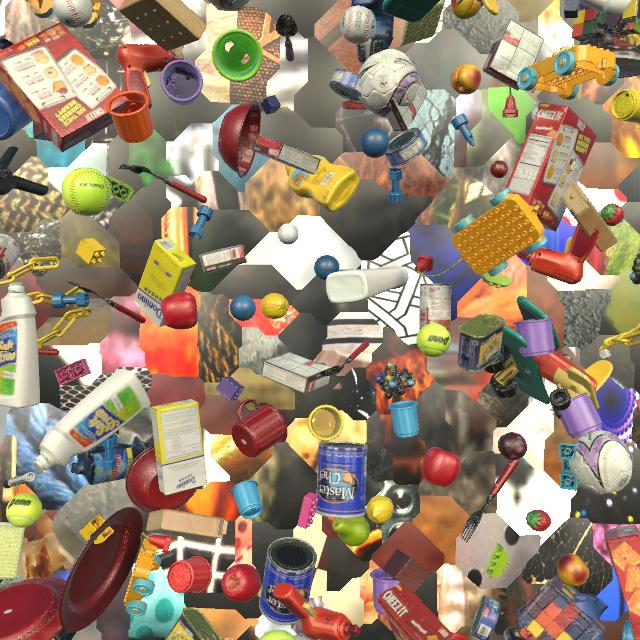ycb_002_master_chef_can: (259, 537, 317, 625), (316, 441, 368, 519)
ycb_003_cracker_box: (0, 22, 129, 152), (505, 103, 597, 231), (377, 583, 456, 640), (604, 525, 640, 640)
ycb_004_sugar_box: (133, 237, 196, 327), (150, 399, 207, 495)
ycb_005_tomato_soup_can: (419, 283, 451, 332), (0, 234, 20, 282)
ycb_006_mustard_bottle: (285, 155, 360, 212)
ycb_007_tuna_fish_can: (384, 128, 428, 167), (470, 595, 500, 640), (329, 68, 362, 104)
ycb_008_pudding_box: (482, 19, 544, 91), (386, 60, 428, 131), (261, 352, 331, 394), (252, 135, 321, 175), (199, 244, 247, 273)
ycb_009_gelatin_box: (635, 399, 640, 410)
ycb_010_potted_meat_can: (457, 313, 506, 373), (165, 607, 222, 640)
ycb_012_strawberry: (600, 203, 625, 226), (526, 509, 551, 531)
ycb_013_apple: (422, 447, 461, 487), (221, 564, 261, 602), (160, 292, 198, 329)
ycb_014_lemon: (366, 495, 394, 524), (260, 293, 289, 319)
ycb_015_peach: (557, 553, 589, 586), (451, 64, 482, 95), (451, 0, 481, 20)
ycb_016_pear: (332, 516, 370, 547)
ycb_018_plum: (498, 432, 527, 460)
